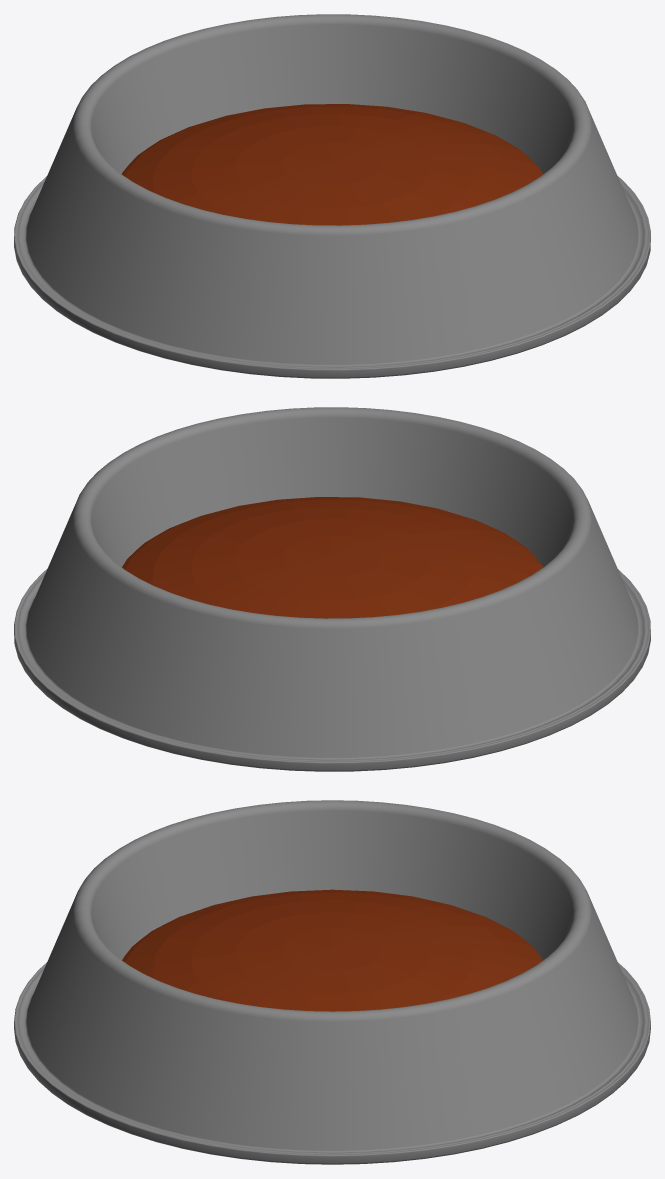
The model's file is bowl.fbx.
3 views of the same model, one above another, from view 1: azimuth 30°, elevation 25°; view 2: azimuth 150°, elevation 25°; view 3: azimuth 270°, elevation 25° (orthographic).
Parts seen in each view (by area): view 1: DogBowl01, DogBowl01.001; view 2: DogBowl01, DogBowl01.001; view 3: DogBowl01, DogBowl01.001.
Boxes of the visible parts, box(x1,y1,x2,y2) form: DogBowl01: box(14, 14, 650, 378); DogBowl01.001: box(121, 104, 542, 225); DogBowl01: box(14, 407, 650, 771); DogBowl01.001: box(122, 497, 543, 618); DogBowl01: box(14, 800, 650, 1164); DogBowl01.001: box(122, 889, 542, 1011).
Size of the model in its own units: 234 by 50.32 by 234.
